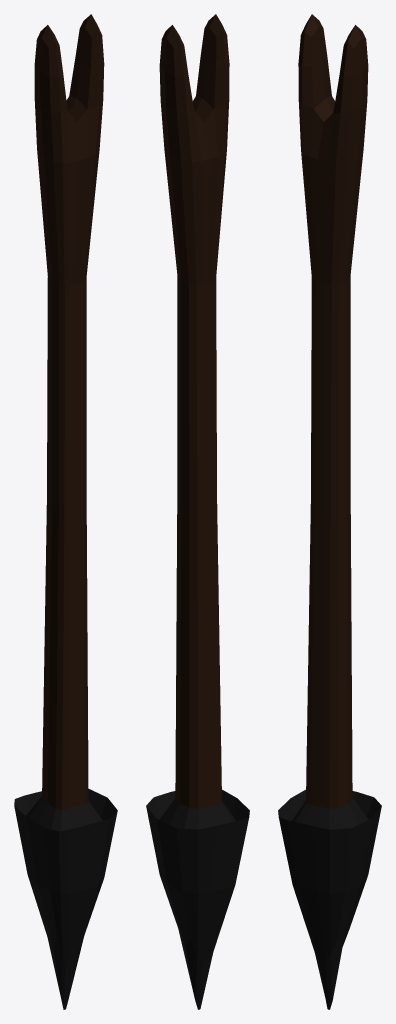
3 views of the same model, side by side, from view 1: azimuth 30°, elevation 25°; view 2: azimuth 210°, elevation 25°; view 3: azimuth 330°, elevation 25° (orthographic).
Visible parts, largest first — view 1: Cube; view 2: Cube; view 3: Cube.
Boxes of the visible parts, left/top/right/bottom form: Cube: left=14, top=14, right=117, bottom=1009; Cube: left=146, top=14, right=249, bottom=1009; Cube: left=278, top=14, right=381, bottom=1009.
Bounding box in the file's own units: 46.05 × 539 × 45.45.
